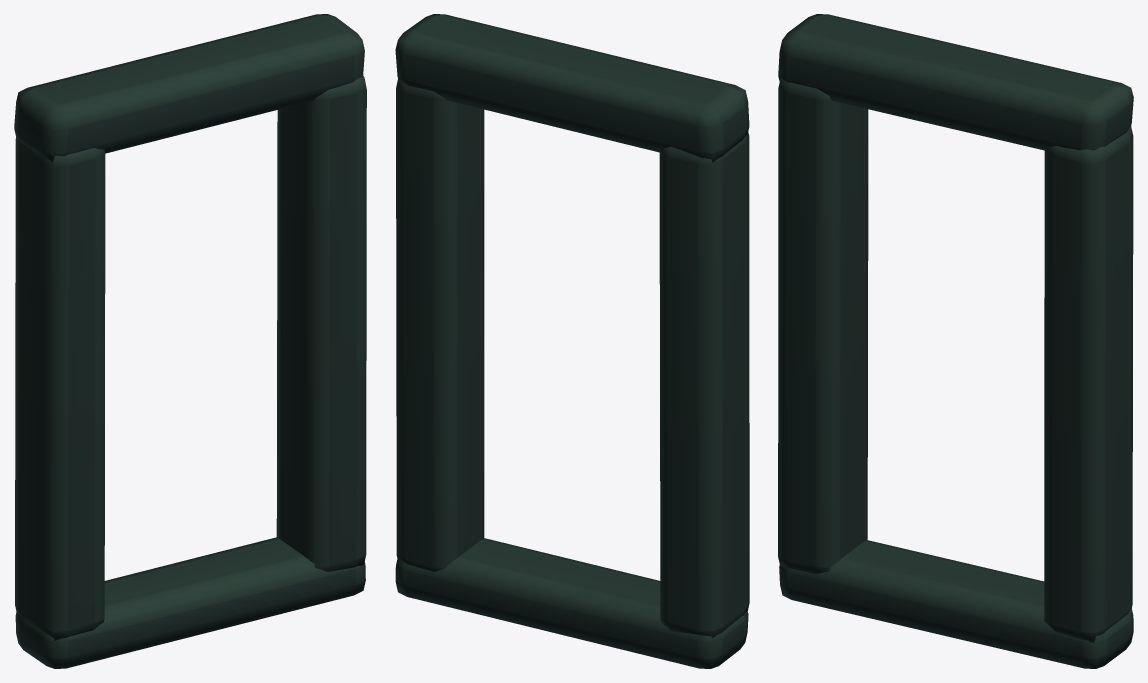
Rendered from door_frame_black_LOD_setup.fbx.
3 views of the same model, side by side, from view 1: azimuth 30°, elevation 25°; view 2: azimuth 150°, elevation 25°; view 3: azimuth 330°, elevation 25° (orthographic).
Visible parts, largest first — view 1: door_frame_black_LOD0; view 2: door_frame_black_LOD0; view 3: door_frame_black_LOD0.
Boxes of the visible parts, x1,y1,x2,y2 form: door_frame_black_LOD0: (14, 14, 366, 668); door_frame_black_LOD0: (395, 14, 749, 668); door_frame_black_LOD0: (778, 14, 1133, 668).
Size of what is drawn, in the model's own units: 140 by 234 by 32.79.
